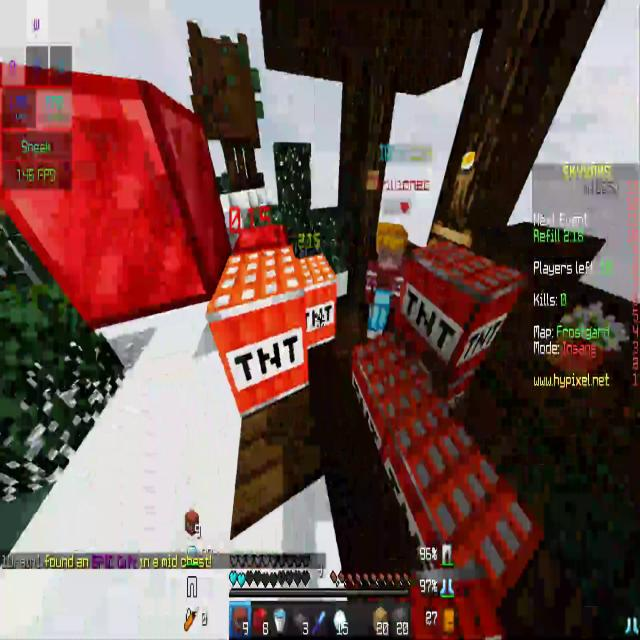Player: (362, 188, 409, 354)
